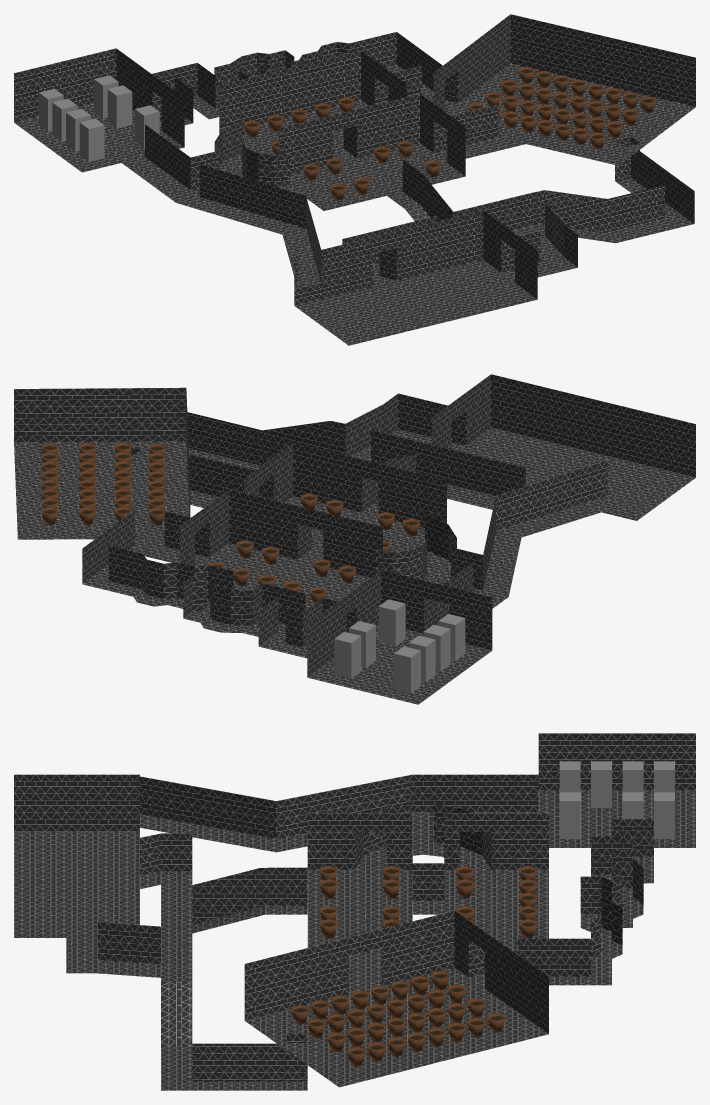
The picture shows the model from 3 angles, top to bottom: view 1: azimuth 30°, elevation 25°; view 2: azimuth 150°, elevation 25°; view 3: azimuth 270°, elevation 25°; orthographic projection. The views are drawn at different scales.
Visible parts, largest first — view 1: stairs.001, pillars.001, flowerpot.002, flowerpot.003, flowerpot.004, flowerpot.005; view 2: stairs.001, pillars.001, flowerpot.002, flowerpot.005, flowerpot.003, flowerpot.004; view 3: stairs.001, pillars.001, flowerpot.003, flowerpot.002, flowerpot.005, flowerpot.004.
Boxes of the visible parts, x1,y1,x2,y2 form: stairs.001: [14, 14, 695, 345]; pillars.001: [39, 75, 159, 161]; flowerpot.002: [518, 66, 655, 113]; flowerpot.003: [501, 79, 638, 125]; flowerpot.004: [485, 91, 622, 138]; flowerpot.005: [468, 102, 605, 149]; stairs.001: [14, 374, 695, 704]; pillars.001: [334, 599, 465, 693]; flowerpot.002: [41, 442, 58, 525]; flowerpot.005: [148, 443, 165, 525]; flowerpot.003: [79, 442, 95, 525]; flowerpot.004: [114, 442, 131, 521]; stairs.001: [14, 733, 695, 1090]; pillars.001: [559, 761, 674, 838]; flowerpot.003: [327, 998, 485, 1051]; flowerpot.002: [347, 1012, 505, 1066]; flowerpot.005: [291, 970, 449, 1024]; flowerpot.004: [307, 984, 465, 1038].
Size of the model in its own units: 67 by 11 by 65.
Materials: 2 (2 with a texture image).
